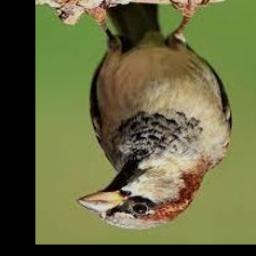Sparrow: (76, 0, 232, 229)
